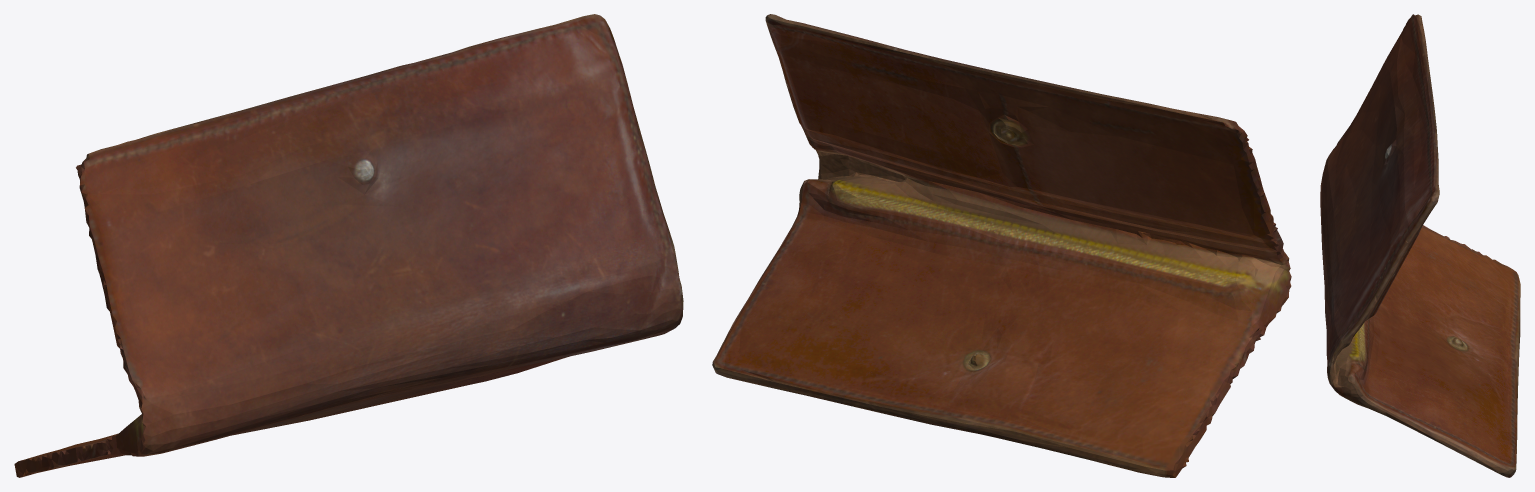
3 views of the same model, side by side, from view 1: azimuth 30°, elevation 25°; view 2: azimuth 150°, elevation 25°; view 3: azimuth 270°, elevation 25° (orthographic). The views are drawn at different scales.
Visible parts, largest first — view 1: Ledergeldbeutel_3k_2k; view 2: Ledergeldbeutel_3k_2k; view 3: Ledergeldbeutel_3k_2k.
Part boxes in pixels (x1=…): Ledergeldbeutel_3k_2k: x1=14, y1=14, x2=683, y2=477; Ledergeldbeutel_3k_2k: x1=712, y1=14, x2=1291, y2=477; Ledergeldbeutel_3k_2k: x1=1320, y1=14, x2=1520, y2=477.
Size of the model in its own units: 0.1994 by 0.1312 by 0.0853.
Materials: 1 (1 with a texture image).
